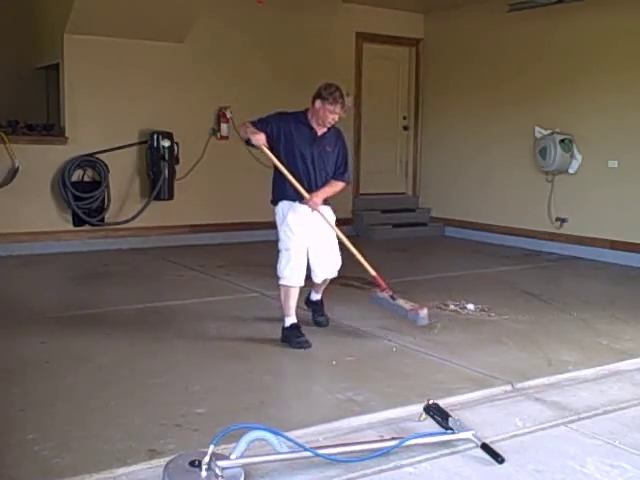person: (239, 82, 429, 349)
